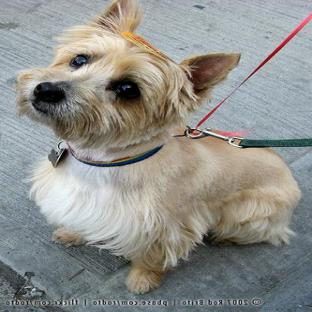Animal: (17, 0, 301, 293)
